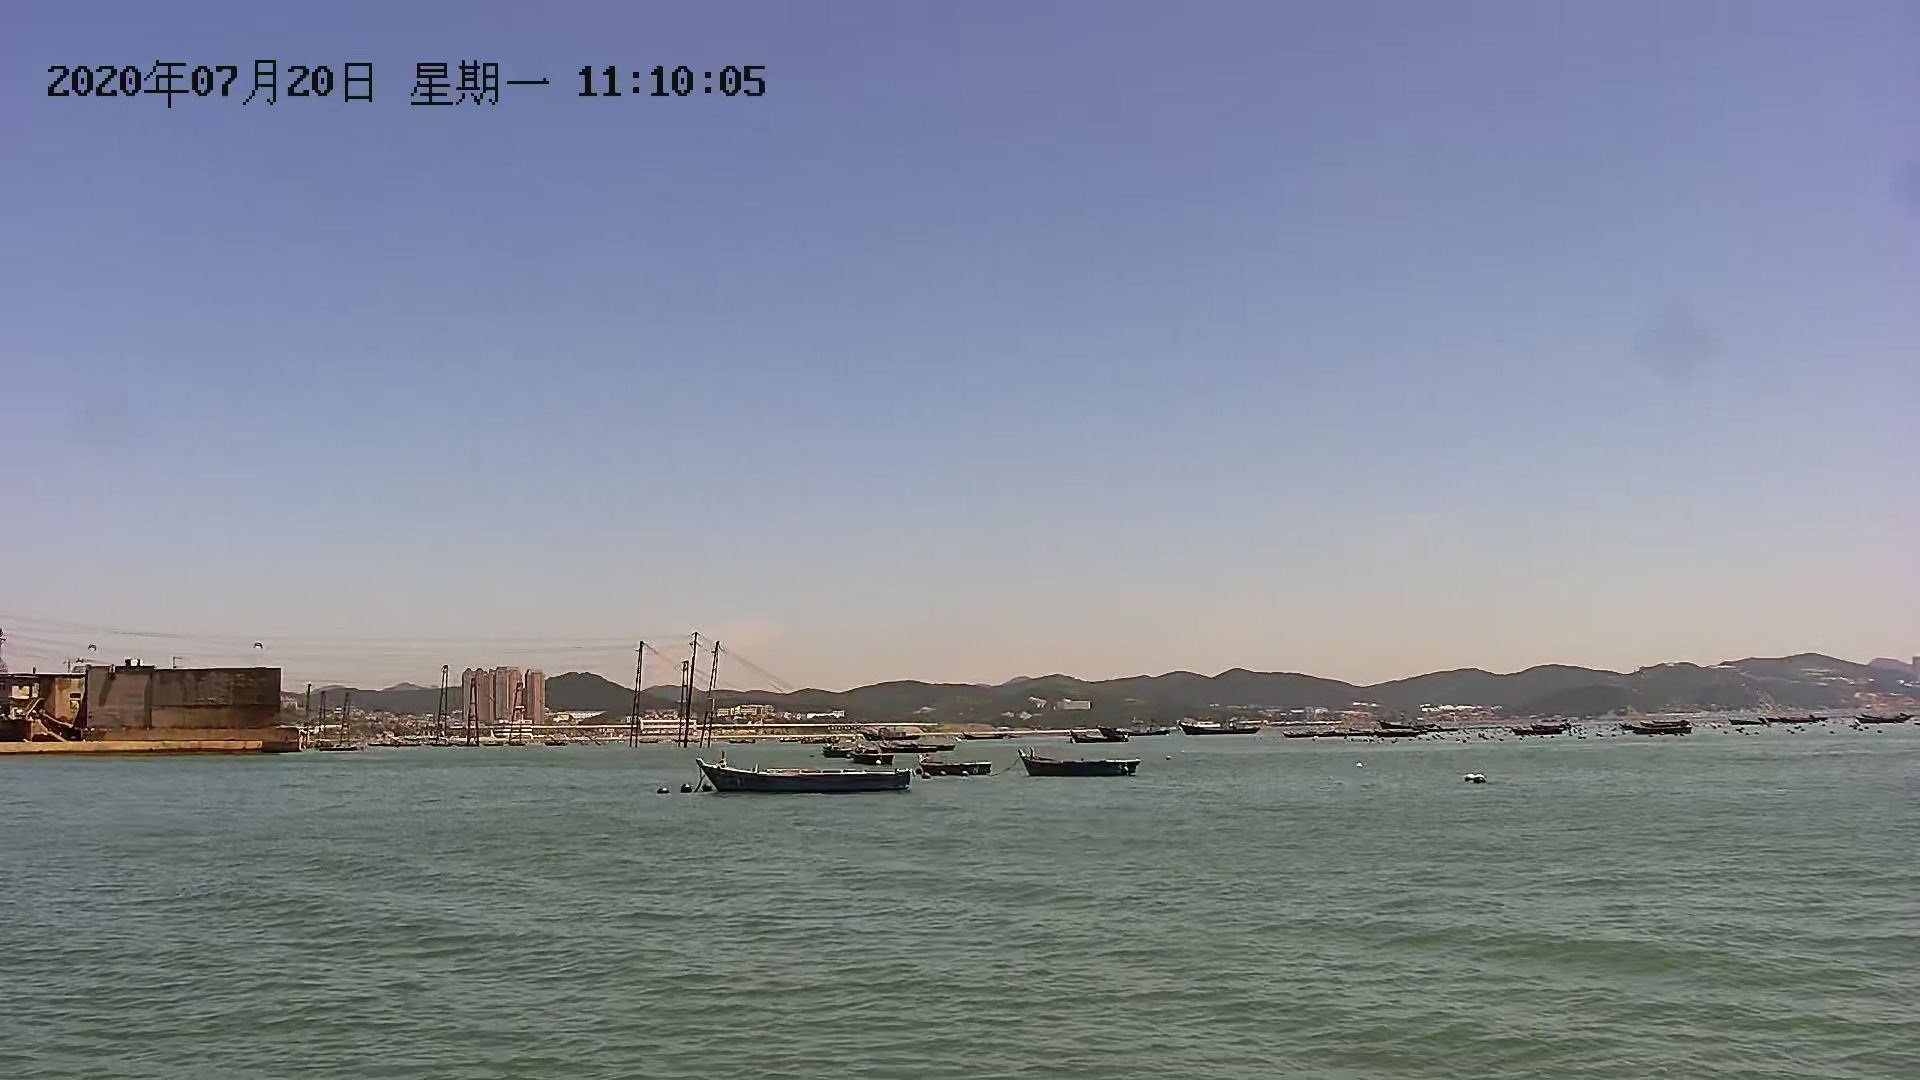ball: (1458, 773, 1499, 789)
boat: (696, 756, 930, 799), (1014, 750, 1139, 779), (914, 753, 1001, 778)
